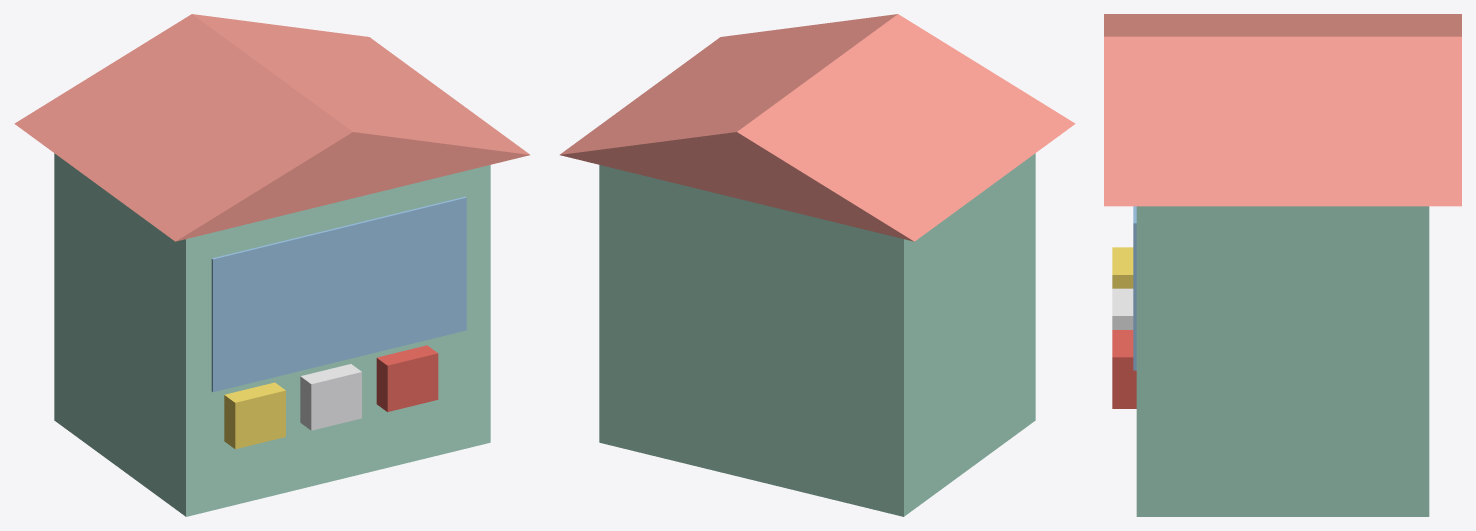
File: city__kiosk.fbx
The picture shows the model from 3 angles, left to right: view 1: azimuth 30°, elevation 25°; view 2: azimuth 150°, elevation 25°; view 3: azimuth 270°, elevation 25°; orthographic projection. The views are drawn at different scales.
Visible parts, largest first — view 1: city__kiosk; view 2: city__kiosk; view 3: city__kiosk.
Boxes of the visible parts, bbox=[...] form: city__kiosk: bbox=[14, 14, 529, 516]; city__kiosk: bbox=[560, 14, 1075, 516]; city__kiosk: bbox=[1104, 14, 1461, 516].
Size of the model in its own units: 2.8 by 2.7 by 2.2.
